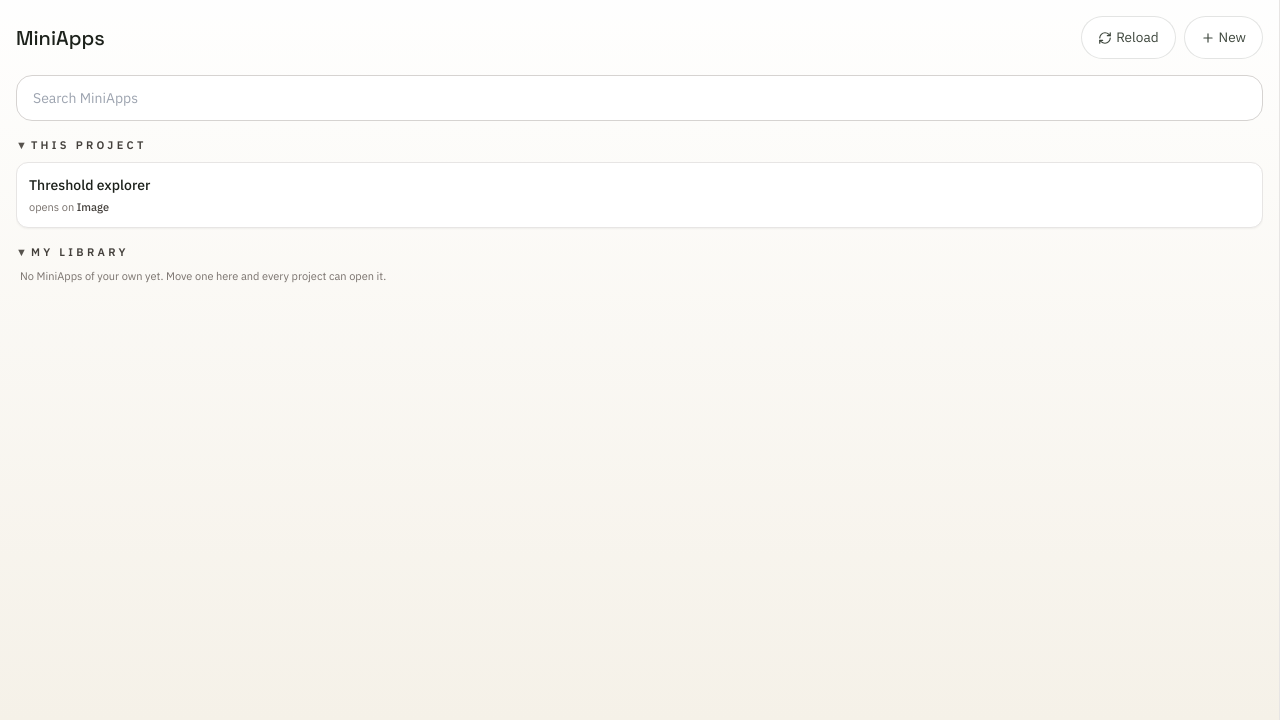
Scenario: MiniApps tab — US5 scenario 1: the hover popover (FR-032) › shows the description, the declared type, the tier and the directory
The width and height of the screenshot is (1280, 720).
Expected: the element with test id "miniapp-palette-content" is shown, [16,75,1263,283]
Hover over the button with test id "miniapp-card-threshold-explorer" at (90, 185), box [16,162,1263,228]
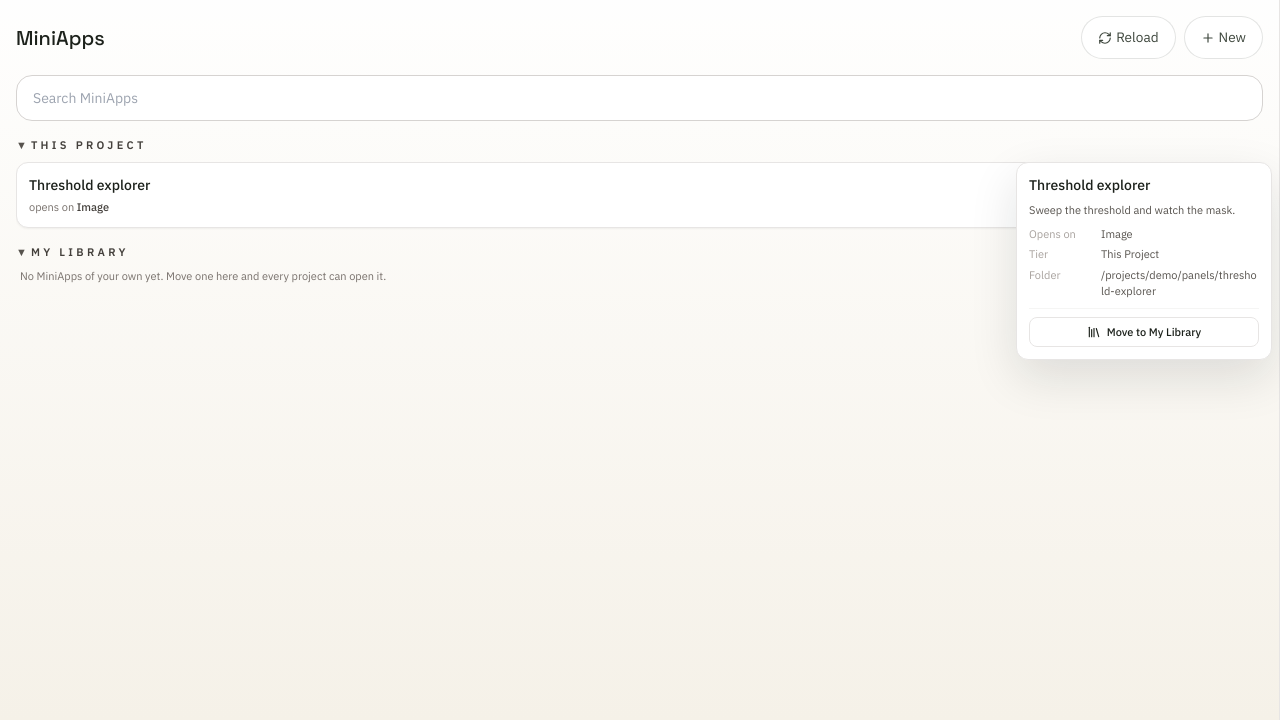
Expected: the element with test id "miniapp-detail-popover" shows "Sweep the threshold and watch the mask.", [1029,203,1235,217]
Expected: the element with test id "miniapp-detail-popover" shows "Image", [1101,227,1133,241]
Expected: the element with test id "miniapp-detail-popover" shows "This Project", [1101,247,1159,261]
